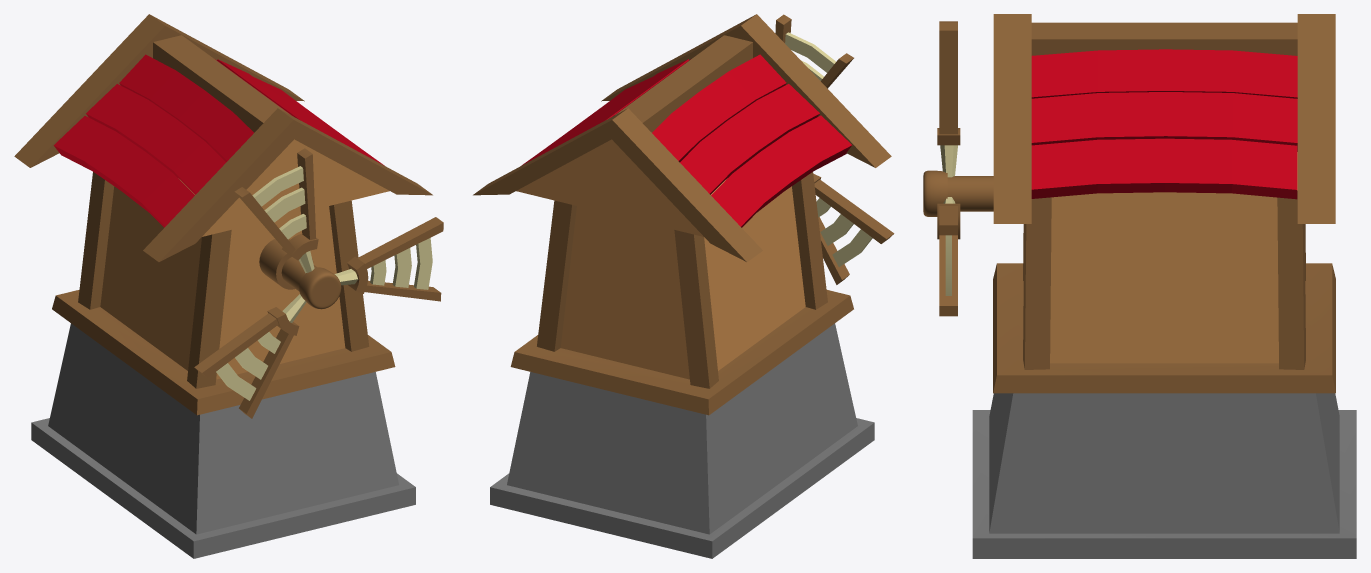
File: Field.fbx
The picture shows the model from 3 angles, left to right: view 1: azimuth 30°, elevation 25°; view 2: azimuth 150°, elevation 25°; view 3: azimuth 270°, elevation 25°; orthographic projection. The views are drawn at different scales.
Parts seen in each view (by area): view 1: Mill; view 2: Mill; view 3: Mill.
Part boxes in pixels (bbox=[...]): Mill: bbox=[14, 14, 443, 558]; Mill: bbox=[473, 14, 894, 558]; Mill: bbox=[923, 14, 1356, 558].
Bounding box in the file's own units: 59.81 × 84.47 × 69.11.
